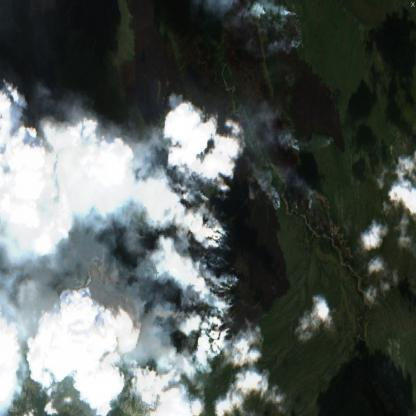fire: (100, 135, 257, 353), (248, 5, 308, 50)
